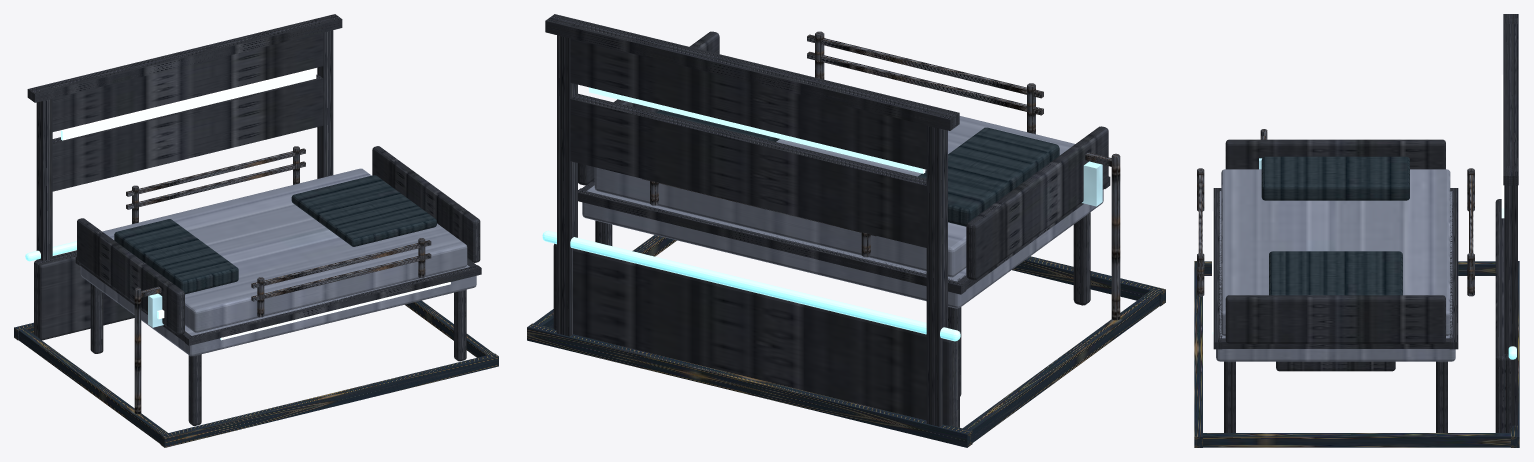
The model's file is med_bed.glb.
3 renders of one model, left to right at view 1: azimuth 30°, elevation 25°; view 2: azimuth 150°, elevation 25°; view 3: azimuth 270°, elevation 25°, orthographic. The views are drawn at different scales.
Visible parts, largest first — view 1: sight_shell, mattress, blanket, pillow, shelltoe0, depthhead, board0, frame, board2, shellrim0, sightglow, shelltoes0 (+10 smaller); view 2: sight_shell, depthhead, mattress, frame, board0, shelltoe2, pillow, shellrim2, depthheadtrim, shelltoes0, shelltoe0, sightglow (+7 smaller); view 3: mattress, board2, pillow, blanket, sight_shell, board0, shelltoes2, frame, depthhead, shelltoe0, shellrim2, drawer (+9 smaller).
Boxes of the visible parts, box(x1,y1,x2,y2) form: sight_shell: box(27, 14, 342, 261); mattress: box(102, 168, 467, 332); blanket: box(291, 175, 436, 246); pillow: box(114, 219, 238, 294); shelltoe0: box(160, 353, 498, 447); depthhead: box(34, 250, 134, 340); board0: box(77, 218, 184, 334); frame: box(80, 265, 476, 356); board2: box(372, 146, 480, 262); shellrim0: box(185, 265, 481, 345); sightglow: box(61, 68, 316, 140); shelltoes0: box(18, 328, 168, 443); sight_shell: box(545, 14, 959, 426); depthhead: box(553, 243, 959, 427); mattress: box(594, 116, 1074, 277); frame: box(582, 185, 1103, 308); board0: box(966, 126, 1108, 280); shelltoe2: box(527, 323, 972, 447); pillow: box(918, 127, 1059, 226); shellrim2: box(578, 188, 966, 294); depthheadtrim: box(542, 230, 960, 341); shelltoes0: box(961, 289, 1160, 442); shelltoe0: box(1012, 256, 1165, 306); sightglow: box(589, 87, 925, 173); mattress: box(1221, 169, 1450, 335); board2: box(1225, 295, 1445, 343); pillow: box(1261, 156, 1409, 200); blanket: box(1269, 251, 1402, 295); sight_shell: box(1503, 14, 1518, 425); board0: box(1225, 139, 1445, 169); shelltoes2: box(1203, 433, 1510, 447); frame: box(1216, 191, 1455, 361); depthhead: box(1495, 199, 1512, 432); shelltoe0: box(1194, 261, 1202, 447); shellrim2: box(1449, 188, 1458, 349); drawer: box(1276, 361, 1395, 371).
Size of the model in its own units: 2.42 by 1.7 by 1.89.
10 materials, 8 textured.
